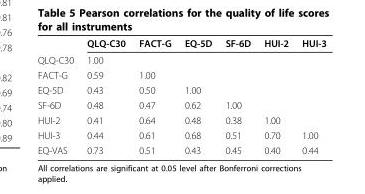table: (36, 37, 325, 155)
table column: (79, 37, 131, 155), (131, 37, 177, 155), (36, 37, 79, 155), (177, 37, 218, 155), (218, 37, 256, 155), (256, 37, 294, 155), (294, 37, 325, 155)
table column header: (36, 37, 325, 51)
table row: (36, 51, 325, 67), (36, 67, 325, 82), (36, 82, 325, 97), (36, 97, 325, 112), (36, 112, 325, 127), (36, 127, 325, 142), (36, 37, 325, 51), (36, 142, 325, 155)
